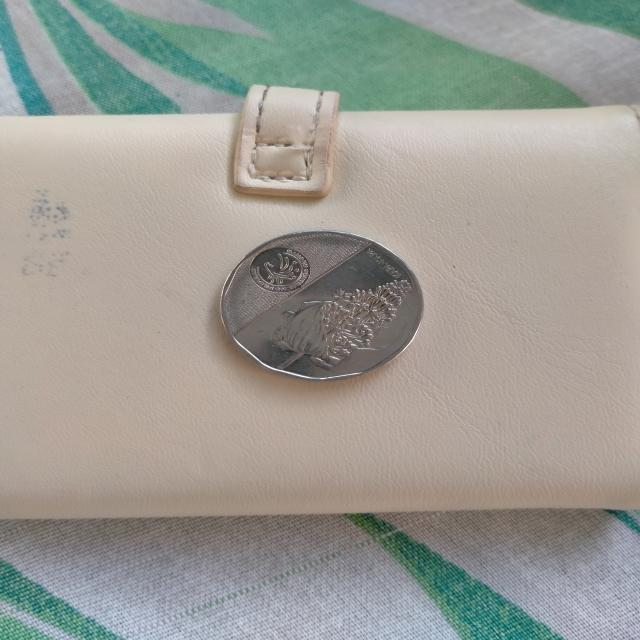10_New_Back: (247, 263, 423, 376)
